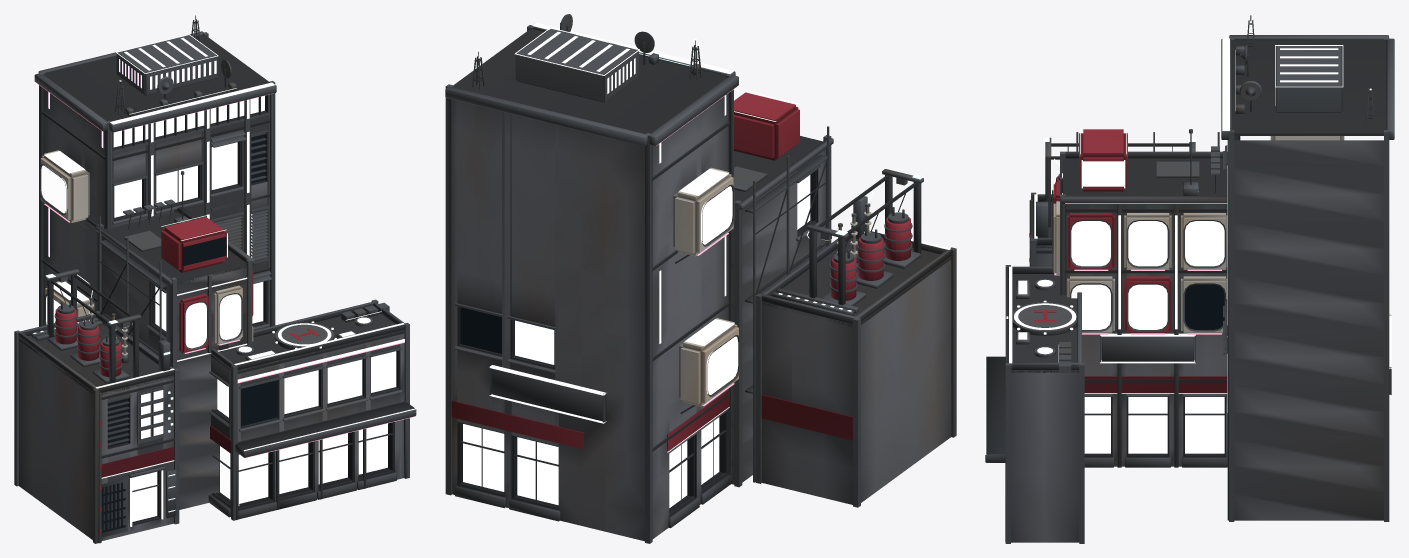
The model's file is wings293.glb.
The picture shows the model from 3 angles, left to right: view 1: azimuth 30°, elevation 25°; view 2: azimuth 150°, elevation 25°; view 3: azimuth 270°, elevation 25°; orthographic projection. The views are drawn at different scales.
Parts seen in each view (by area): view 1: fw-steel, fw-wall, fw-roof, fw-paint, fw-roomc, fw-shop, fw-wall2, fw-room1, fw-grow, fw-led, fw-pearl, fw-glass (+5 smaller); view 2: fw-wall, fw-steel, fw-roof, fw-paint, fw-shop, fw-pearl, fw-led, fw-wall2, fw-roomc, fw-glass, fw-grow, fw-room0 (+1 smaller); view 3: fw-wall, fw-steel, fw-roof, fw-paint, fw-shop, fw-roomc, fw-pearl, fw-led, fw-room1, fw-grow, fw-room0, fw-glass (+1 smaller).
Boxes of the visible parts, x1,y1,x2,y2 form: fw-steel: (14,15,416,543); fw-wall: (19,88,404,540); fw-roof: (19,35,404,394); fw-paint: (55,217,319,532); fw-roomc: (41,165,362,414); fw-shop: (220,423,387,505); fw-wall2: (107,95,400,525); fw-room1: (114,142,396,521); fw-grow: (48,37,264,257); fw-led: (44,14,416,526); fw-pearl: (40,150,253,357); fw-glass: (183,237,276,426); fw-wall: (452,93,951,541); fw-steel: (445,14,956,543); fw-roof: (453,29,951,326); fw-paint: (451,92,910,451); fw-shop: (463,417,719,507); fw-pearl: (673,167,871,406); fw-led: (477,22,950,452); fw-wall2: (457,169,818,517); fw-roomc: (515,186,732,364); fw-glass: (460,307,501,353); fw-grow: (527,32,726,343); fw-room0: (706,336,738,394); fw-wall: (1011,140,1383,542); fw-steel: (985,15,1394,543); fw-roof: (1011,40,1386,372); fw-paint: (1029,129,1227,392); fw-shop: (1084,397,1224,453); fw-roomc: (1071,221,1224,329); fw-pearl: (1053,136,1344,333); fw-led: (985,14,1391,454); fw-room1: (1071,161,1123,329); fw-grow: (1118,48,1338,412); fw-room0: (1128,221,1167,266); fw-glass: (1185,284,1224,329).
Bounding box in the file's own units: 13.42 × 15.29 × 13.33.
